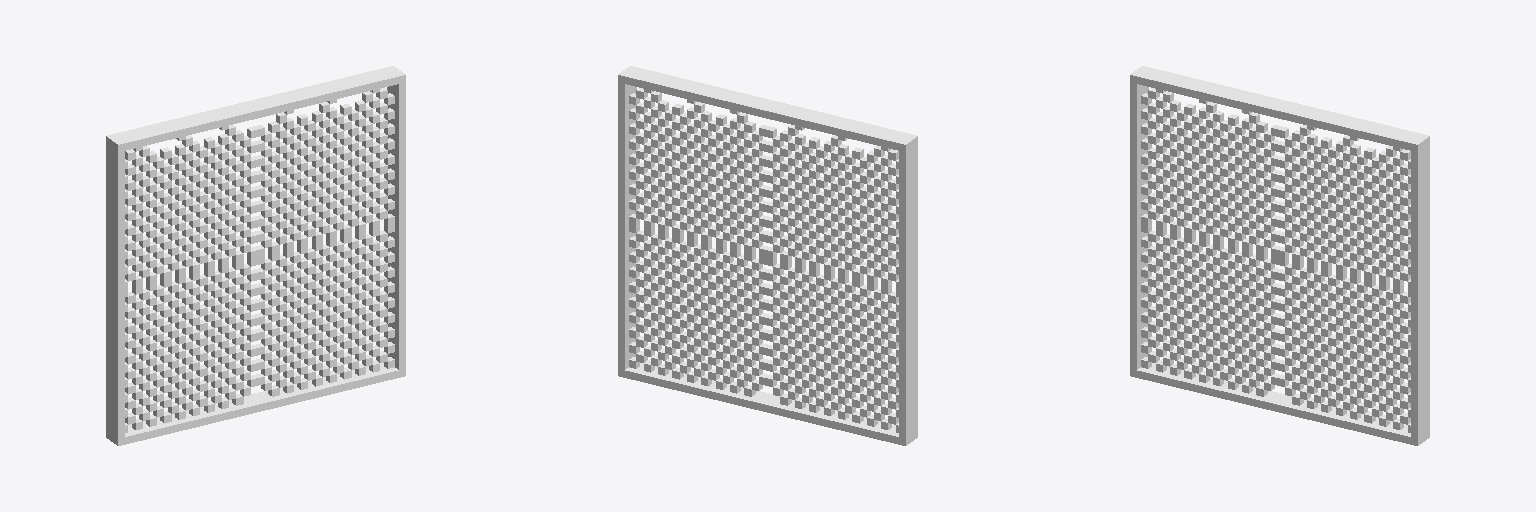
Rendered from ChainLinkFence.obj.
3 views of the same model, side by side, from view 1: azimuth 30°, elevation 25°; view 2: azimuth 150°, elevation 25°; view 3: azimuth 330°, elevation 25° (orthographic).
Parts seen in each view (by area): view 1: object 1; view 2: object 1; view 3: object 1.
Boxes of the visible parts, box(x1,y1,x2,y2) form: object 1: box(106, 66, 405, 445); object 1: box(618, 66, 917, 445); object 1: box(1130, 66, 1429, 445).
Bounding box in the file's own units: 4 × 4 × 0.3.